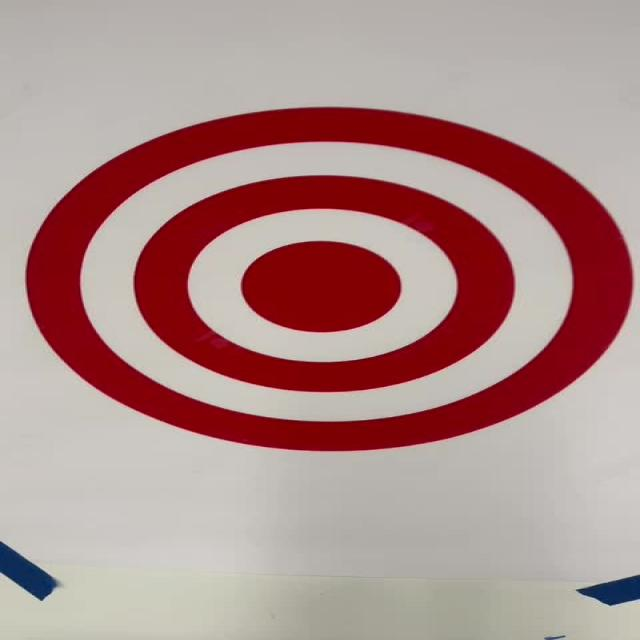target_red: (25, 104, 632, 454)
